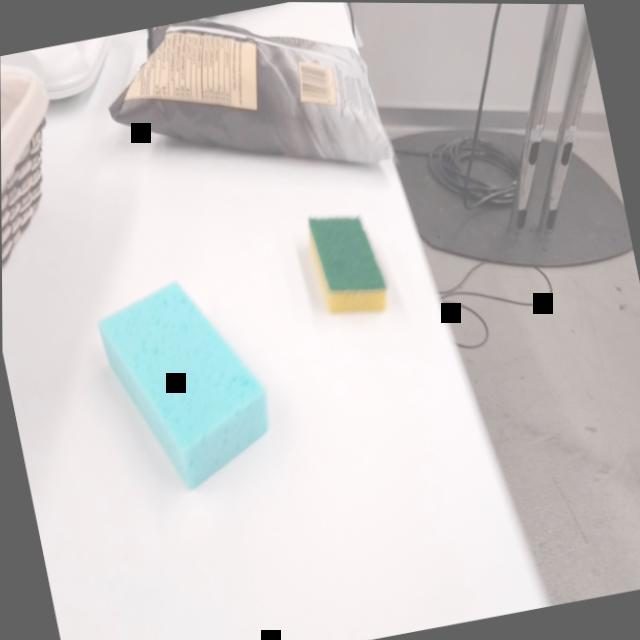potato_chips: (90, 1, 401, 221)
scrubby: (298, 198, 398, 329)
sponge_opl: (87, 261, 286, 509)
